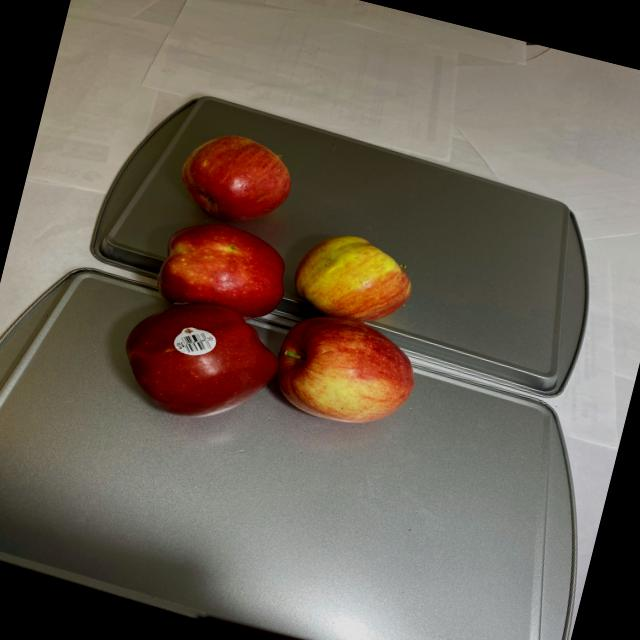apple: (112, 120, 464, 471)
